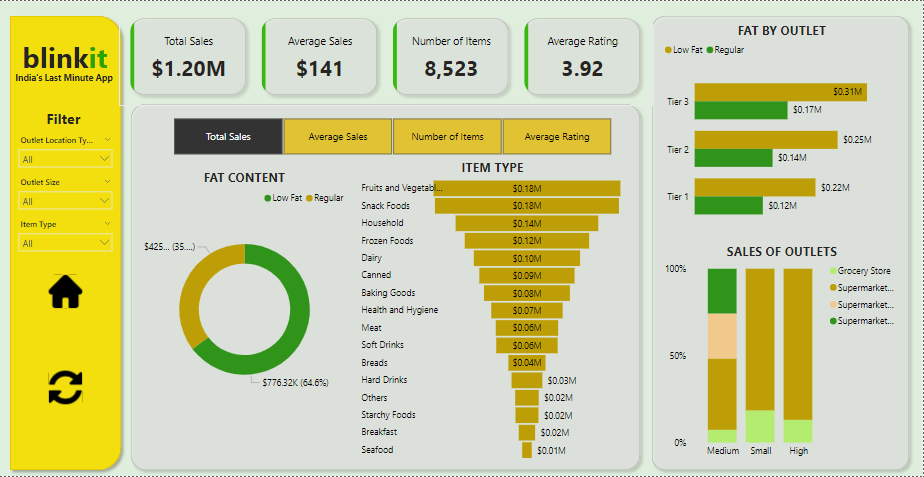

What the dashboard file says about the page in this screenshot:
{"tool":"powerbi","page":{"name":"Dashboard2","canvas":[1400,720],"ordinal":1},"visuals":[{"type":"shape","box":[7.6,13.6,186.4,706.1],"z":0},{"type":"textbox","box":[30.3,50,151.5,68.2],"z":1000},{"type":"textbox","box":[19.7,101.5,171.2,33.3],"z":2000},{"type":"shape","box":[190.9,147,789.4,572.7],"z":3000},{"type":"donutChart","title":"FAT CONTENT","fields":{"Y":["Calculations.Total Sales"],"Category":["BlinkIT Grocery Data.Item Fat Content"]},"box":[212.1,254.5,319.7,372.7],"z":4000},{"type":"slicer","fields":{"Values":["Metrics.Metrics"]},"box":[239.4,171.2,712.1,68.2],"z":5000},{"type":"funnel","title":"ITEM TYPE","fields":{"Category":["BlinkIT Grocery Data.Item Type"],"Y":["Calculations.Total Sales"]},"box":[543.9,239.4,407.6,460.6],"z":6000},{"type":"shape","box":[980.3,13.6,407.6,706.1],"z":7000},{"type":"cardVisual","fields":{"Data":["Calculations.Total Sales","Calculations.Average Sales","Calculations.Number of Items","Calculations.Average Rating"]},"box":[181.8,9.1,809.1,150],"z":8000},{"type":"clusteredBarChart","title":"FAT BY OUTLET","fields":{"Y":["Calculations.Total Sales"],"Category":["BlinkIT Grocery Data.Outlet Location Type"],"Series":["BlinkIT Grocery Data.Item Fat Content"]},"box":[1003,31.8,366.7,328.8],"z":9000},{"type":"hundredPercentStackedColumnChart","title":"SALES OF OUTLETS","fields":{"Y":["Calculations.Total Sales"],"Category":["BlinkIT Grocery Data.Outlet Size"],"Series":["BlinkIT Grocery Data.Outlet Type"]},"box":[1003,366.7,366.7,333.3],"z":10000},{"type":"textbox","box":[66.7,159.1,69.7,45.5],"z":11000},{"type":"slicer","fields":{"Values":["BlinkIT Grocery Data.Outlet Location Type"]},"box":[19.7,197,162.1,63.6],"z":12000},{"type":"slicer","fields":{"Values":["BlinkIT Grocery Data.Outlet Size"]},"box":[19.7,260.6,162.1,63.6],"z":13000},{"type":"slicer","fields":{"Values":["BlinkIT Grocery Data.Item Type"]},"box":[19.7,324.2,162.1,63.6],"z":14000},{"type":"actionButton","box":[71.2,556.1,59.1,59.1],"z":15000},{"type":"actionButton","box":[71.2,410.6,59.1,59.1],"z":16000}]}

Visuals, with their boxes in screenshot pixels (x1, y1, x2, y2), scaled from the page's 1400x720 canvas onto the 924x477 screenshot:
shape: 5/9/128/476
textbox: 20/33/120/78
textbox: 13/67/126/89
shape: 126/97/647/476
"FAT CONTENT" donutChart: 140/169/351/416
slicer - Metrics.Metrics: 158/113/628/159
"ITEM TYPE" funnel: 359/159/628/464
shape: 647/9/916/476
cardVisual - Calculations.Total Sales x Calculations.Average Sales: 120/6/654/105
"FAT BY OUTLET" clusteredBarChart: 662/21/904/239
"SALES OF OUTLETS" hundredPercentStackedColumnChart: 662/243/904/464
textbox: 44/105/90/136
slicer - BlinkIT Grocery Data.Outlet Location Type: 13/131/120/173
slicer - BlinkIT Grocery Data.Outlet Size: 13/173/120/215
slicer - BlinkIT Grocery Data.Item Type: 13/215/120/257
actionButton: 47/368/86/408
actionButton: 47/272/86/311
